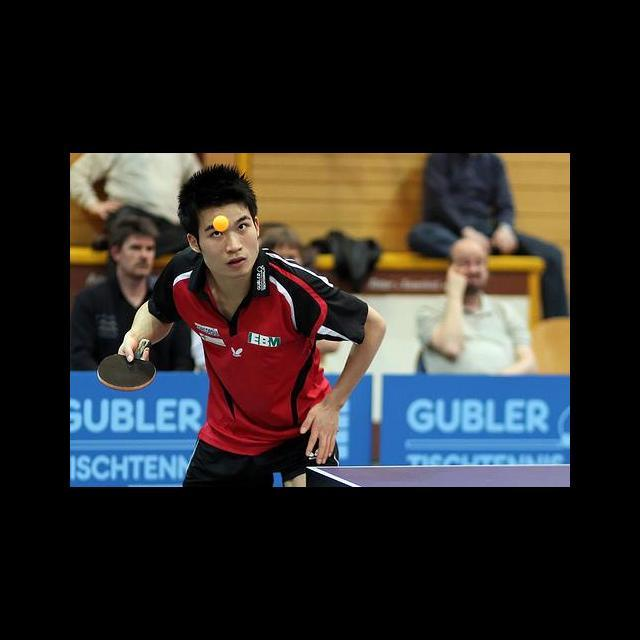ping-pong-ball: (213, 215, 230, 231)
